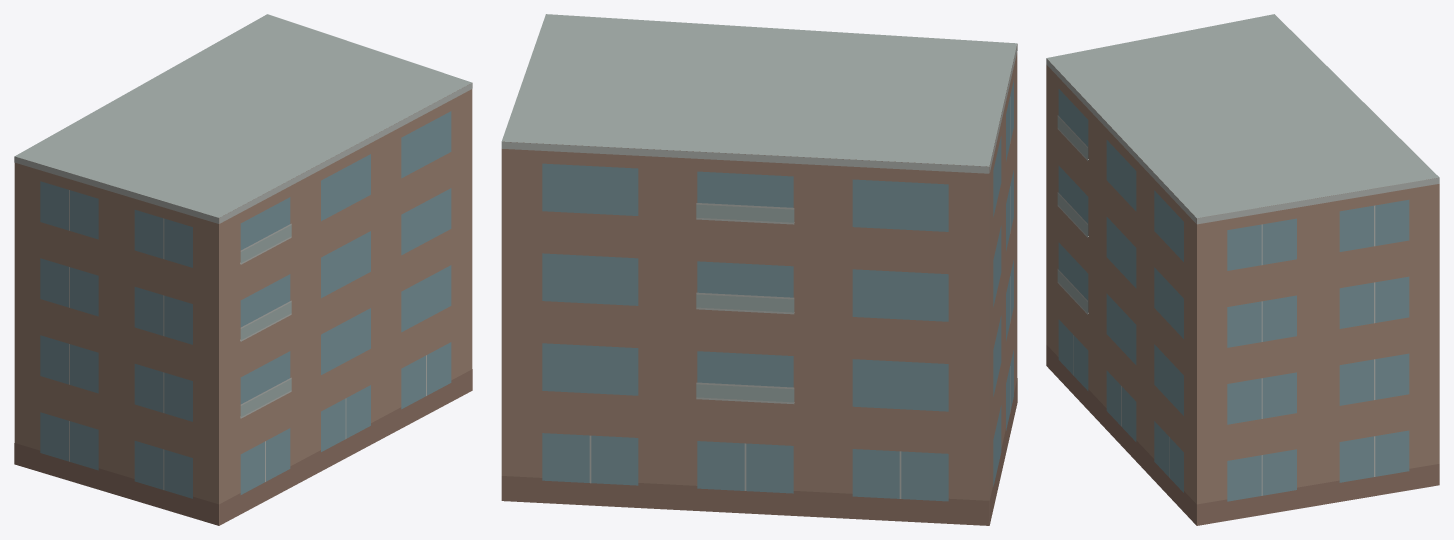
The model's file is residential-e1d96c8f-634f-464e-aa32-beef1d3bc076.glb.
3 views of the same model, side by side, from view 1: azimuth 30°, elevation 25°; view 2: azimuth 150°, elevation 25°; view 3: azimuth 270°, elevation 25° (orthographic). The views are drawn at different scales.
Parts seen in each view (by area): view 1: residential-e1d96c8f-634f-464e-aa32-beef1d3bc076.tmp; view 2: residential-e1d96c8f-634f-464e-aa32-beef1d3bc076.tmp; view 3: residential-e1d96c8f-634f-464e-aa32-beef1d3bc076.tmp.
Part boxes in pixels (<box>): residential-e1d96c8f-634f-464e-aa32-beef1d3bc076.tmp: <box>14,14,472,525</box>; residential-e1d96c8f-634f-464e-aa32-beef1d3bc076.tmp: <box>501,14,1017,525</box>; residential-e1d96c8f-634f-464e-aa32-beef1d3bc076.tmp: <box>1046,14,1439,525</box>.
Bounding box in the file's own units: 17.39 × 12.2 × 14.15.
